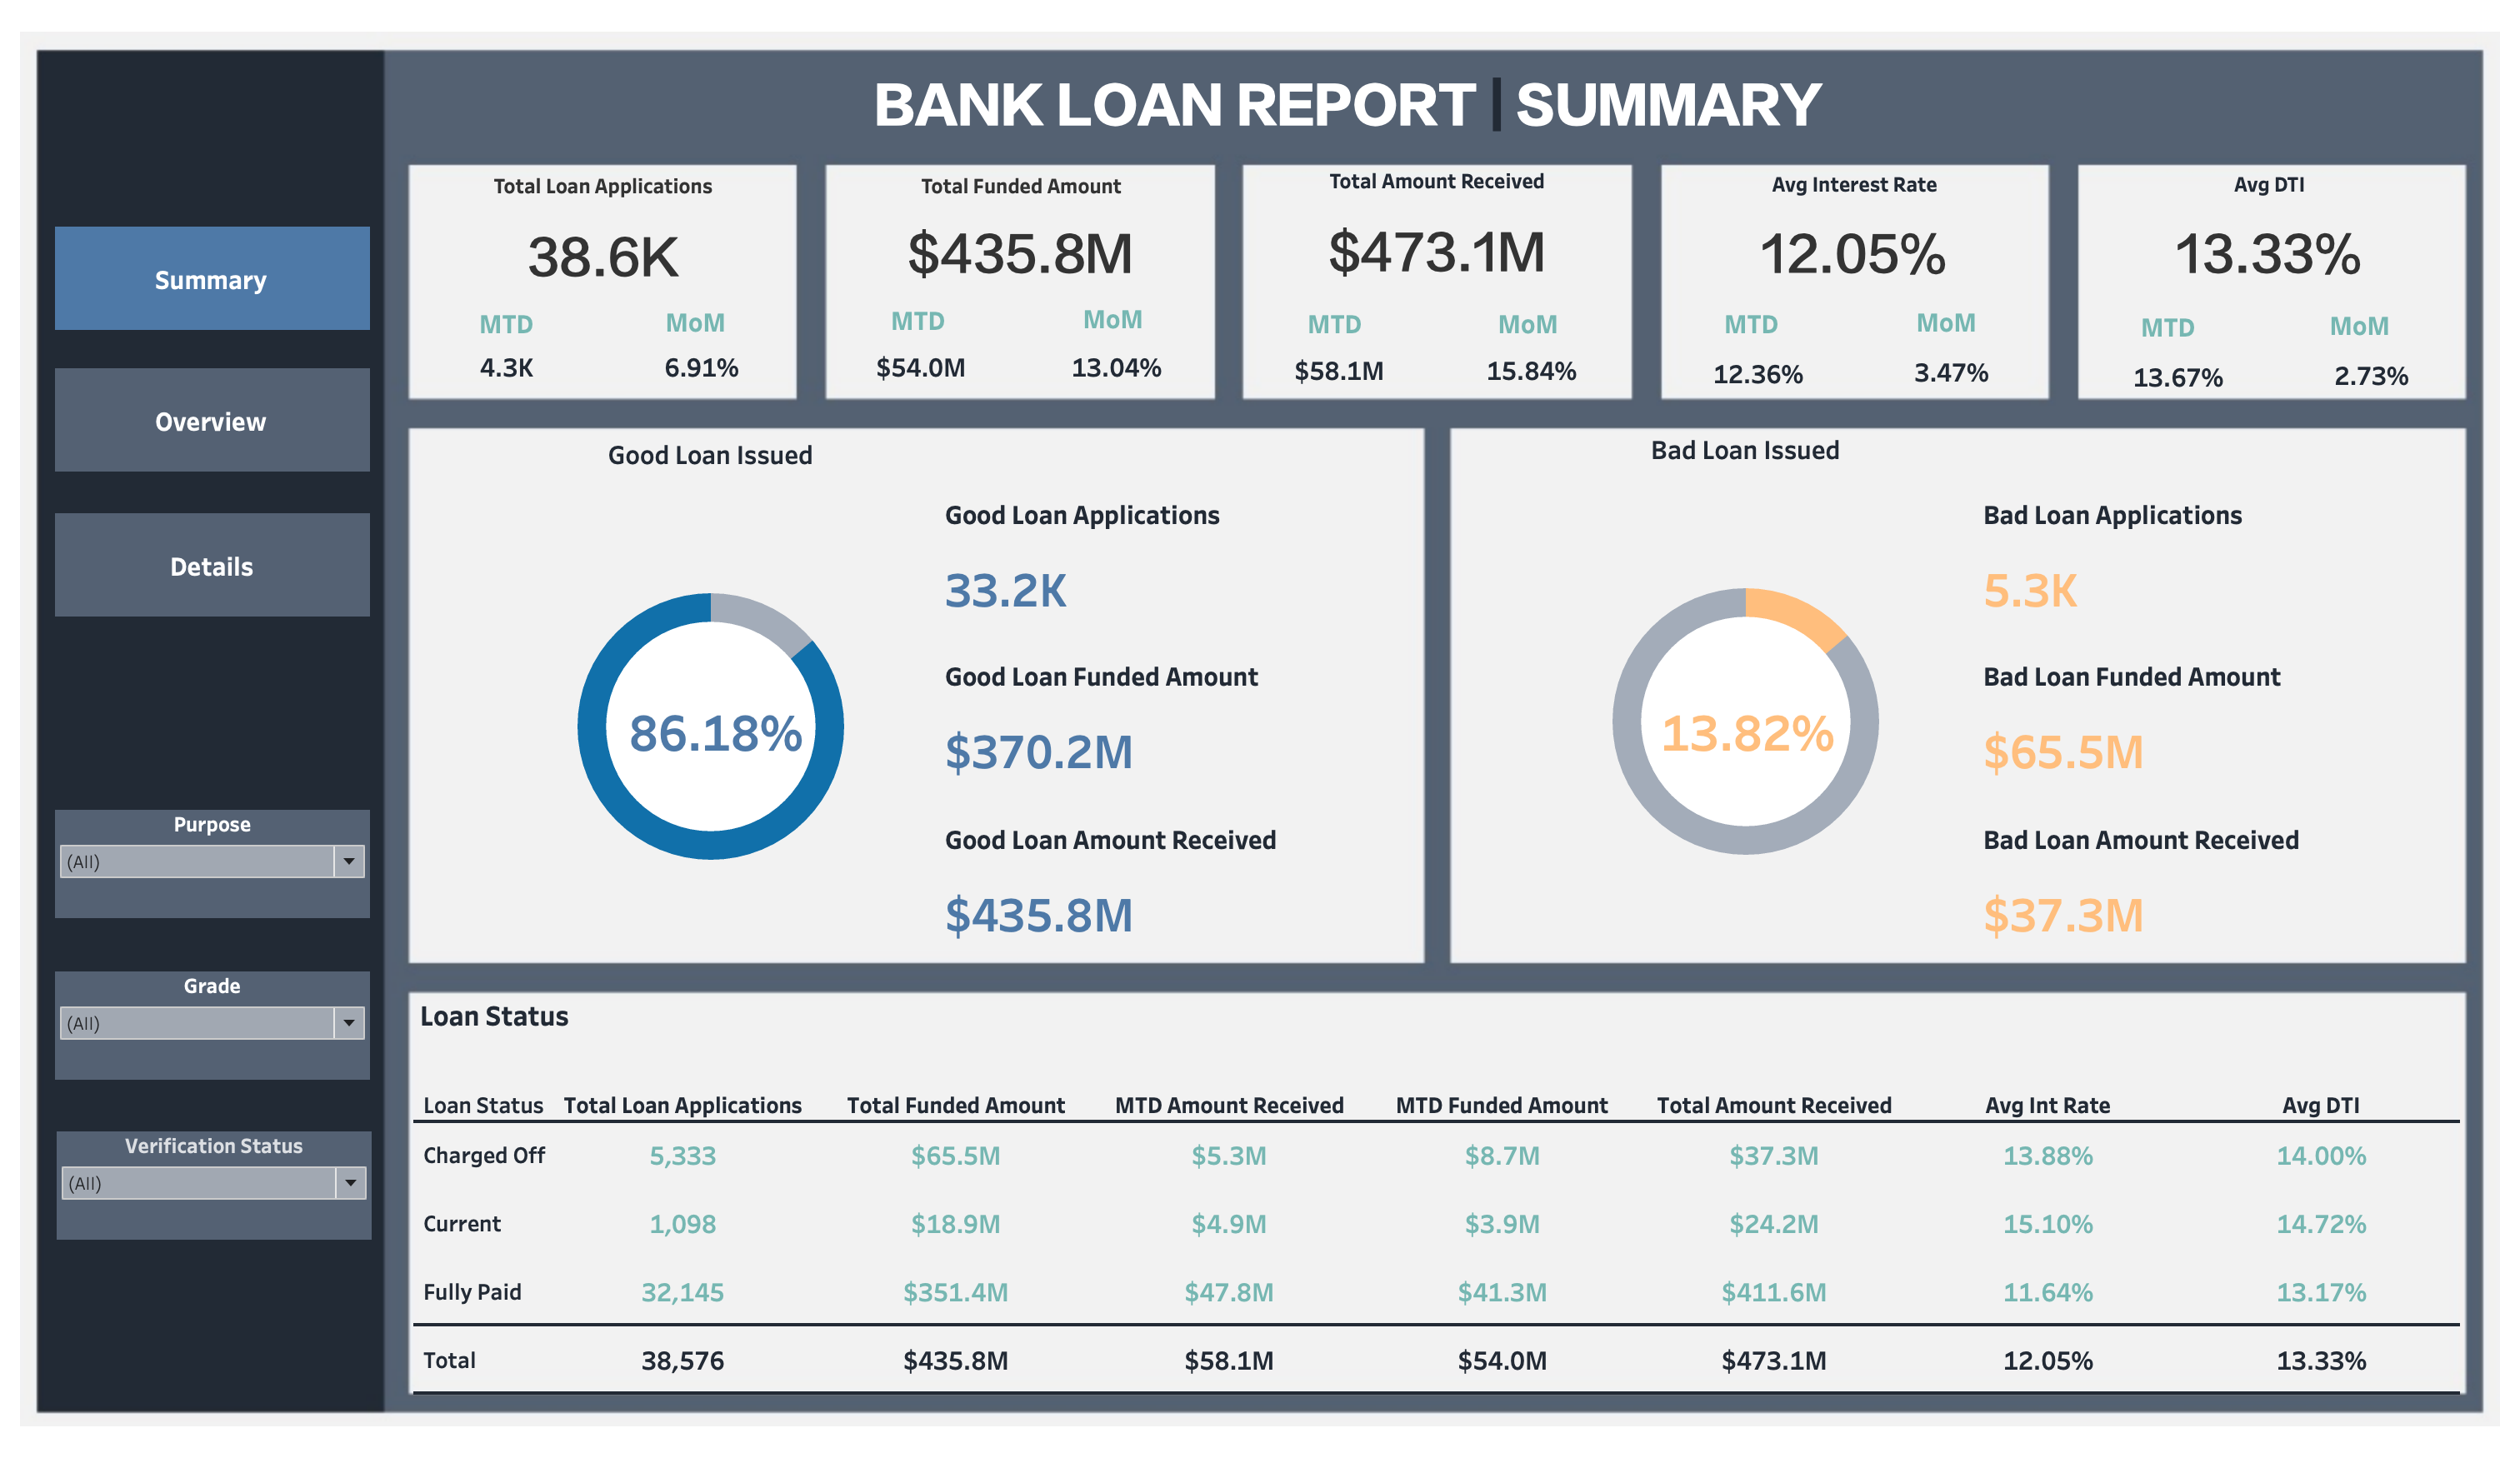

Layout of this report page (visuals, bound fields, positions):
{"tool":"tableau","page":{"name":"SUMMARY","canvas":[1000,1000],"units":"permille","ordinal":2},"visuals":[{"type":"image","param":"/Users/gahooshao/Downloads/project - bank loan/BACKGROUND 1.jpg","box":[6.3,10.9,987.5,978.2]},{"type":"text","box":[298,36.7,474.1,72.1]},{"type":"worksheet","title":"Total Amount Received","mark":"Automatic","box":[493.3,110.2,154.3,91.2]},{"type":"worksheet","title":"Avg Interest Rate","mark":"Automatic","box":[659.4,111.6,153.5,88.4]},{"type":"worksheet","title":"Avg DTI","mark":"Automatic","box":[823.8,111.6,153.5,88.4]},{"type":"worksheet","title":"Total Loan Applications","mark":"Automatic","box":[164.3,112.9,150.9,89.8]},{"type":"worksheet","title":"Total Funded Amount","mark":"Automatic","box":[328.6,112.9,153.3,87.1]},{"type":"dashboard-object","box":[21.9,155.1,125.3,70.8]},{"type":"text","box":[328.1,202.7,72.8,34]},{"type":"text","box":[401.7,202.7,80.7,32.6]},{"type":"text","box":[163.5,204.1,75.5,34]},{"type":"text","box":[235.8,204.1,80.2,32.6]},{"type":"text","box":[493.3,204.1,72.8,34]},{"type":"text","box":[658.6,204.1,72.8,34]},{"type":"text","box":[732.2,204.1,80.7,32.6]},{"type":"text","box":[566.2,205.4,80.7,32.6]},{"type":"text","box":[823.8,206.8,72.8,34]},{"type":"text","box":[895.9,206.8,80.7,32.6]},{"type":"worksheet","title":"MTD Funded Amount","mark":"Automatic","box":[327.3,228.6,76.7,44.9]},{"type":"worksheet","title":"MTD Total Loan Applications","mark":"Automatic","box":[163.5,229.9,75.5,42.2]},{"type":"worksheet","title":"MoM Funded Amount","mark":"Automatic","box":[403.3,229.9,79.1,42.2]},{"type":"worksheet","title":"MoM Loan Applications","mark":"Automatic","box":[240.6,231.3,75.5,40.8]},{"type":"worksheet","title":"MTD Amount Received","mark":"Automatic","box":[493.3,232.7,76.7,40.8]},{"type":"worksheet","title":"MoM Amount Received","mark":"Automatic","box":[567.7,235.4,79.9,36.7]},{"type":"worksheet","title":"MTD Avg Interest Rate","mark":"Automatic","box":[658.6,238.1,77.5,35.4]},{"type":"worksheet","title":"MoM Avg Interest Rate","mark":"Automatic","box":[736.9,238.1,75.2,34]},{"type":"worksheet","title":"MTD Avg DTI","mark":"Automatic","box":[823.8,239.5,80.7,35.4]},{"type":"worksheet","title":"MoM Avg DTI","mark":"Automatic","box":[904.5,240.8,72,31.3]},{"type":"dashboard-object","box":[21.9,253.1,125.3,70.8]},{"type":"worksheet","title":"Bad Loan Issued","mark":"Pie","rows":["Calculation_3516678034380595223","Calculation_3516678034380619801"],"box":[575.6,291.2,234.9,366]},{"type":"worksheet","title":"Good Loan Issued","mark":"Pie","rows":["Calculation_3516678034380595223","Calculation_3516678034380619801"],"box":[164.5,295.2,234.9,366]},{"type":"worksheet","title":"Good Loan Applications","mark":"Automatic","box":[369.6,332,195.8,102]},{"type":"worksheet","title":"Bad Loan Applications","mark":"Automatic","box":[781.5,332,195.8,102]},{"type":"dashboard-object","box":[21.9,352.4,125.3,70.8]},{"type":"worksheet","title":"Good Loan Applications %","mark":"Automatic","box":[223.2,425.9,122.9,149.7]},{"type":"worksheet","title":"Bad Loan Applications %","mark":"Automatic","box":[632,425.9,122.9,149.7]},{"type":"worksheet","title":"Good Loan Funded Amount","mark":"Automatic","box":[369.6,442.2,195.8,102]},{"type":"worksheet","title":"Bad Loan Funded Amount","mark":"Automatic","box":[781.5,442.2,195.8,102]},{"type":"worksheet","title":"Good Loan Amount Received","mark":"Automatic","box":[369.6,553.7,195.8,102]},{"type":"worksheet","title":"Bad Loan Amount Received","mark":"Automatic","box":[781.5,553.7,195.8,102]},{"type":"filter","title":"Good Loan Issued","param":"[federated.0blpzld10ge82l11qd87n1spwplw].[none:purpose:nk]","box":[21.9,555.1,125.3,74.8]},{"type":"filter","title":"Good Loan Issued","param":"[federated.0blpzld10ge82l11qd87n1spwplw].[none:grade:nk]","box":[21.9,666.7,125.3,74.8]},{"type":"worksheet","title":"Loan Status","mark":"Automatic","rows":["loan_status"],"box":[163.7,678.9,812.8,277.6]},{"type":"filter","title":"Good Loan Issued","param":"[federated.0blpzld10ge82l11qd87n1spwplw].[none:verification_status:nk]","box":[22.7,775.5,125.3,74.8]}]}

Visuals, with their boxes on the dashboard's canvas, which has no fixed pixel size, in thousandths of its width and height (x1, y1, x2, y2). These are canvas units, not pixel positions in the 2520x1458 screenshot, which may show the page scaled, cropped or inside an application window:
image: (6, 11, 994, 989)
text: (298, 37, 772, 109)
"Total Amount Received" worksheet: (493, 110, 648, 201)
"Avg Interest Rate" worksheet: (659, 112, 813, 200)
"Avg DTI" worksheet: (824, 112, 977, 200)
"Total Loan Applications" worksheet: (164, 113, 315, 203)
"Total Funded Amount" worksheet: (329, 113, 482, 200)
dashboard-object: (22, 155, 147, 226)
text: (328, 203, 401, 237)
text: (402, 203, 482, 235)
text: (164, 204, 239, 238)
text: (236, 204, 316, 237)
text: (493, 204, 566, 238)
text: (659, 204, 731, 238)
text: (732, 204, 813, 237)
text: (566, 205, 647, 238)
text: (824, 207, 897, 241)
text: (896, 207, 977, 239)
"MTD Funded Amount" worksheet: (327, 229, 404, 274)
"MTD Total Loan Applications" worksheet: (164, 230, 239, 272)
"MoM Funded Amount" worksheet: (403, 230, 482, 272)
"MoM Loan Applications" worksheet: (241, 231, 316, 272)
"MTD Amount Received" worksheet: (493, 233, 570, 274)
"MoM Amount Received" worksheet: (568, 235, 648, 272)
"MTD Avg Interest Rate" worksheet: (659, 238, 736, 274)
"MoM Avg Interest Rate" worksheet: (737, 238, 812, 272)
"MTD Avg DTI" worksheet: (824, 240, 904, 275)
"MoM Avg DTI" worksheet: (904, 241, 976, 272)
dashboard-object: (22, 253, 147, 324)
"Bad Loan Issued" worksheet (Pie marks): (576, 291, 810, 657)
"Good Loan Issued" worksheet (Pie marks): (164, 295, 399, 661)
"Good Loan Applications" worksheet: (370, 332, 565, 434)
"Bad Loan Applications" worksheet: (782, 332, 977, 434)
dashboard-object: (22, 352, 147, 423)
"Good Loan Applications %" worksheet: (223, 426, 346, 576)
"Bad Loan Applications %" worksheet: (632, 426, 755, 576)
"Good Loan Funded Amount" worksheet: (370, 442, 565, 544)
"Bad Loan Funded Amount" worksheet: (782, 442, 977, 544)
"Good Loan Amount Received" worksheet: (370, 554, 565, 656)
"Bad Loan Amount Received" worksheet: (782, 554, 977, 656)
"Good Loan Issued" filter: (22, 555, 147, 630)
"Good Loan Issued" filter: (22, 667, 147, 742)
"Loan Status" worksheet: (164, 679, 976, 956)
"Good Loan Issued" filter: (23, 776, 148, 850)
